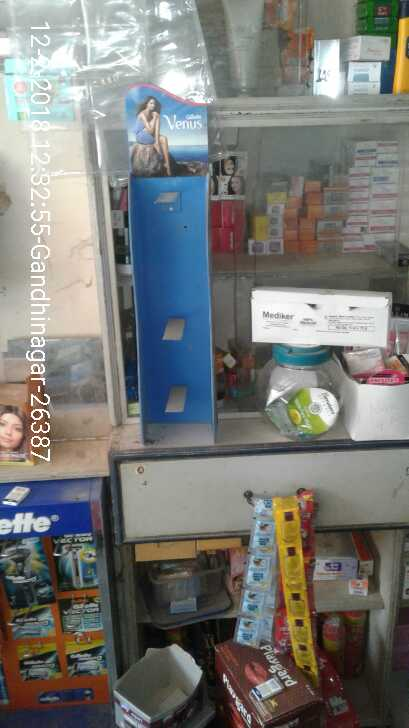gillette: (3, 540, 53, 608)
